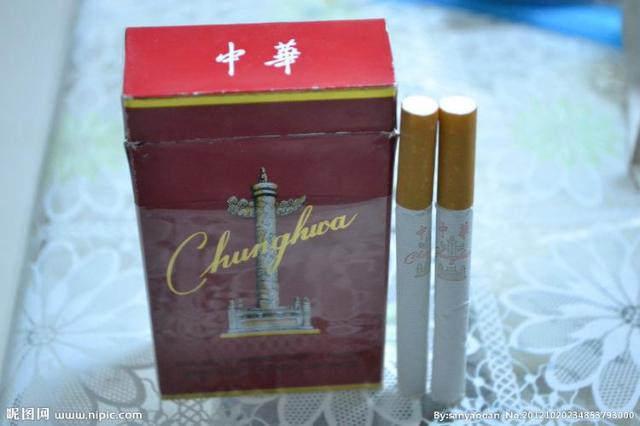Cigarette: (430, 97, 478, 404), (394, 95, 438, 397)
